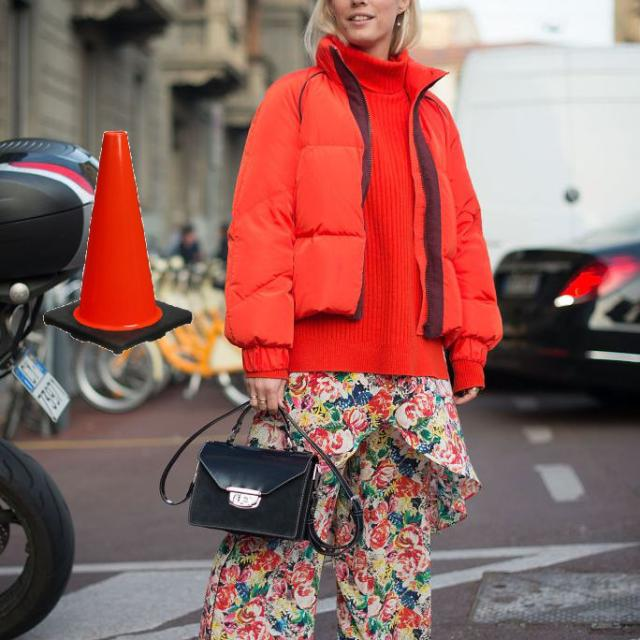traffic cone: (37, 127, 206, 361)
